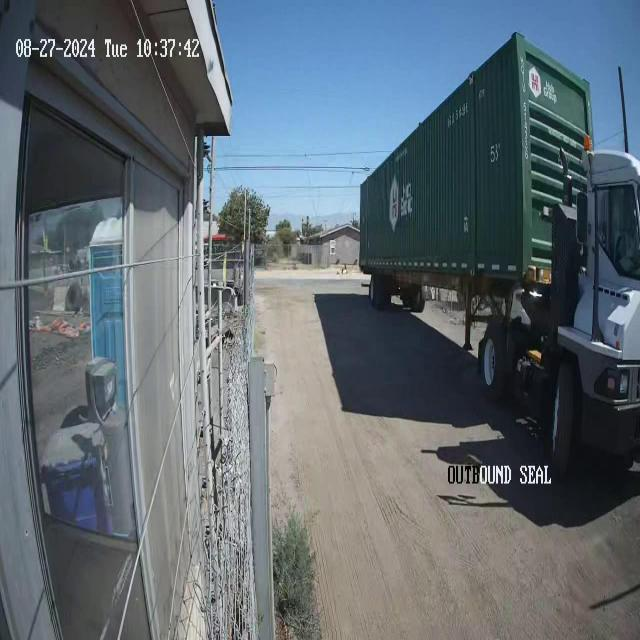CONTAINER: (361, 50, 601, 302)
